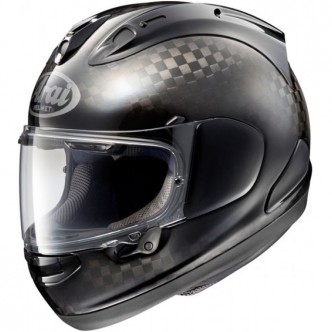with_helmet: (11, 1, 317, 332)
